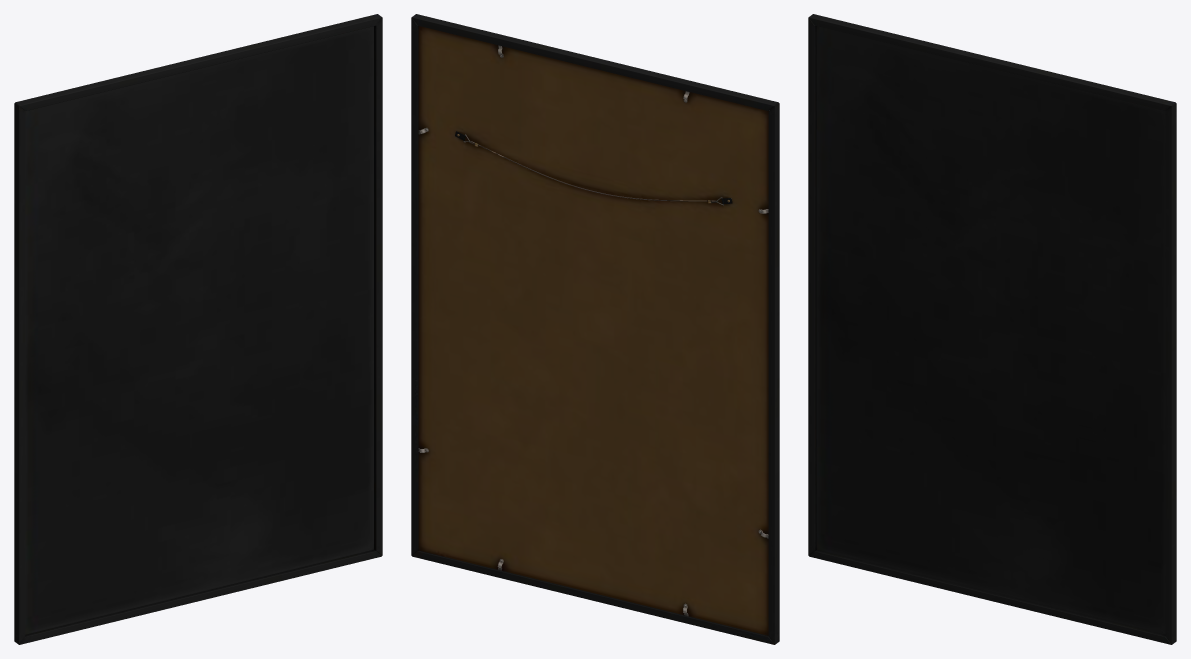
File: hanging_picture_frame_01.gltf
The picture shows the model from 3 angles, left to right: view 1: azimuth 30°, elevation 25°; view 2: azimuth 150°, elevation 25°; view 3: azimuth 330°, elevation 25°; orthographic projection.
Visible parts, largest first — view 1: hanging_picture_frame_01; view 2: hanging_picture_frame_01; view 3: hanging_picture_frame_01.
Boxes of the visible parts, x1=… form: hanging_picture_frame_01: x1=14, y1=14, x2=382, y2=644; hanging_picture_frame_01: x1=411, y1=14, x2=779, y2=644; hanging_picture_frame_01: x1=808, y1=14, x2=1176, y2=644.
Bounding box in the file's own units: 0.594 × 0.841 × 0.0157.
3 materials, 3 textured.
